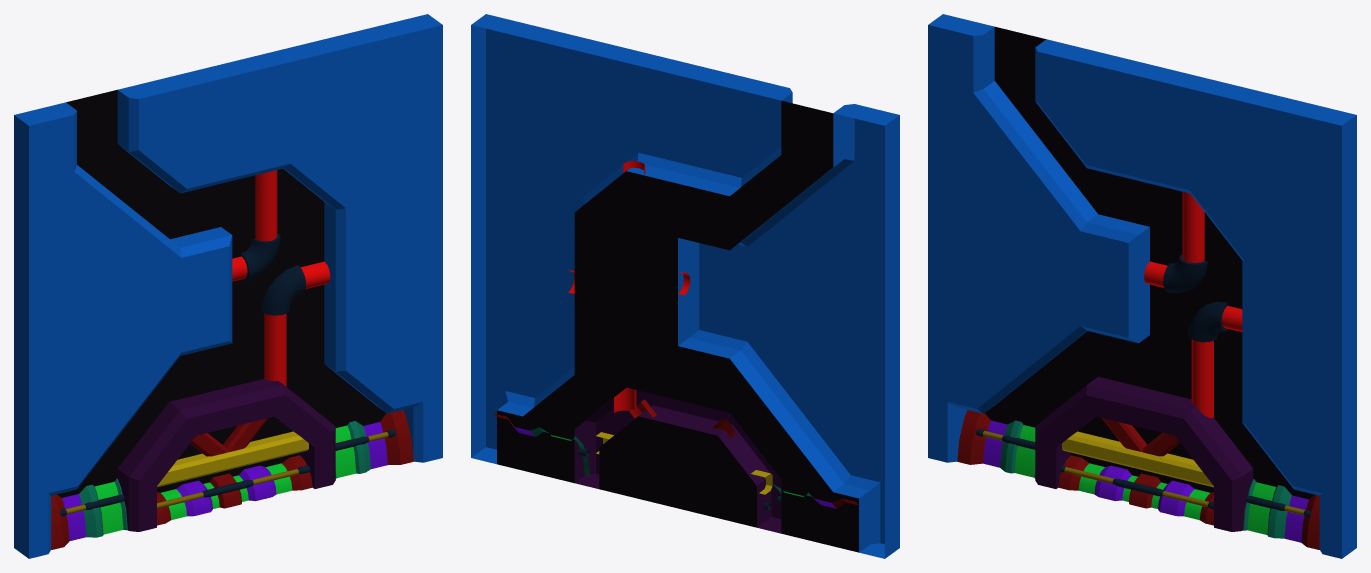
File: OBJ_4_Mur.fbx
3 views of the same model, side by side, from view 1: azimuth 30°, elevation 25°; view 2: azimuth 150°, elevation 25°; view 3: azimuth 330°, elevation 25° (orthographic).
Parts seen in each view (by area): view 1: OBJ_4_Mur; view 2: OBJ_4_Mur; view 3: OBJ_4_Mur.
Boxes of the visible parts, x1,y1,x2,y2 form: OBJ_4_Mur: (14,14,442,558); OBJ_4_Mur: (471,14,899,558); OBJ_4_Mur: (928,14,1356,558).
Bounding box in the file's own units: 16 × 16.03 × 1.39.
